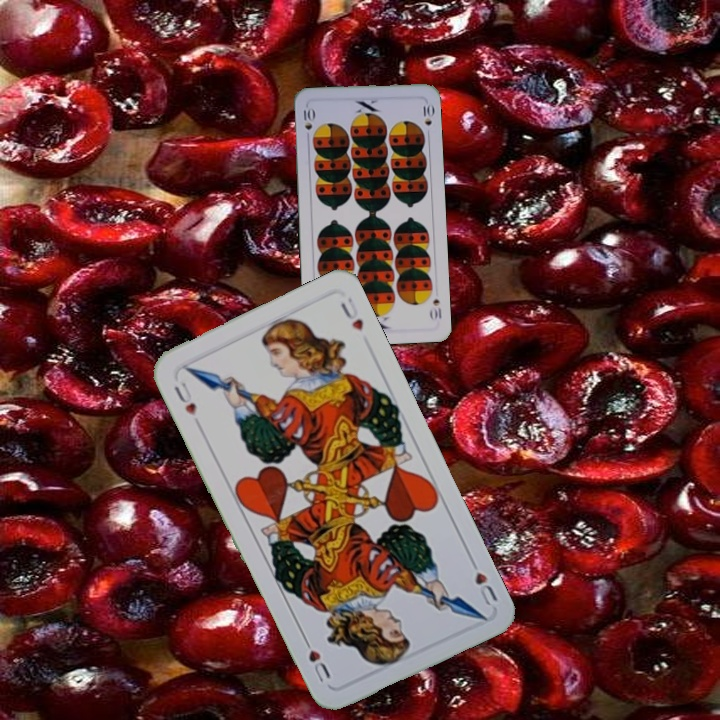HU: (465, 553, 500, 609), (170, 377, 199, 418)
S10: (426, 295, 444, 322), (300, 102, 316, 132)
